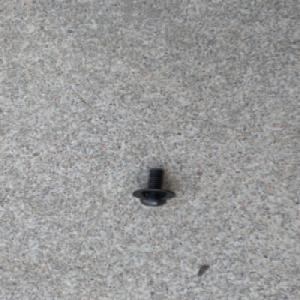BoltWasher: (131, 165, 178, 206)
